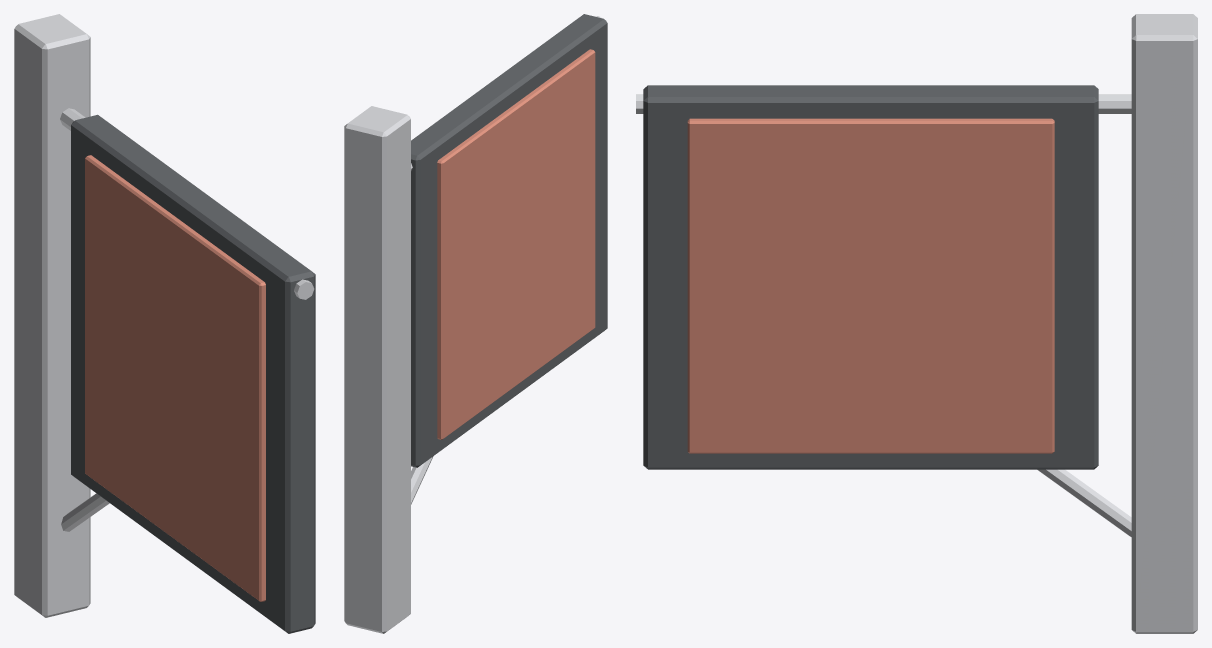
The model's file is SM_Retail_25347_ProjectingBladeSign.fbx.
3 views of the same model, side by side, from view 1: azimuth 30°, elevation 25°; view 2: azimuth 150°, elevation 25°; view 3: azimuth 270°, elevation 25° (orthographic). The views are drawn at different scales.
Parts seen in each view (by area): view 1: SM_Retail_25347_ProjectingBladeSign; view 2: SM_Retail_25347_ProjectingBladeSign; view 3: SM_Retail_25347_ProjectingBladeSign.
Boxes of the visible parts, x1,y1,x2,y2 form: SM_Retail_25347_ProjectingBladeSign: [14, 14, 315, 633]; SM_Retail_25347_ProjectingBladeSign: [344, 14, 607, 633]; SM_Retail_25347_ProjectingBladeSign: [636, 14, 1197, 633].
Size of the model in its own units: 8 by 76.5 by 90.
